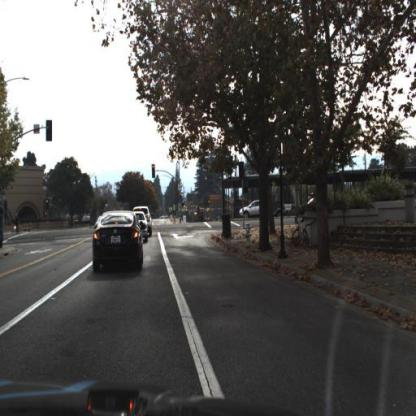car: (94, 211, 146, 273), (240, 199, 267, 223), (272, 202, 288, 219)
pedestrian: (14, 213, 20, 236)
trafficLight-Red: (152, 165, 157, 181), (46, 198, 50, 210), (181, 191, 184, 201)
